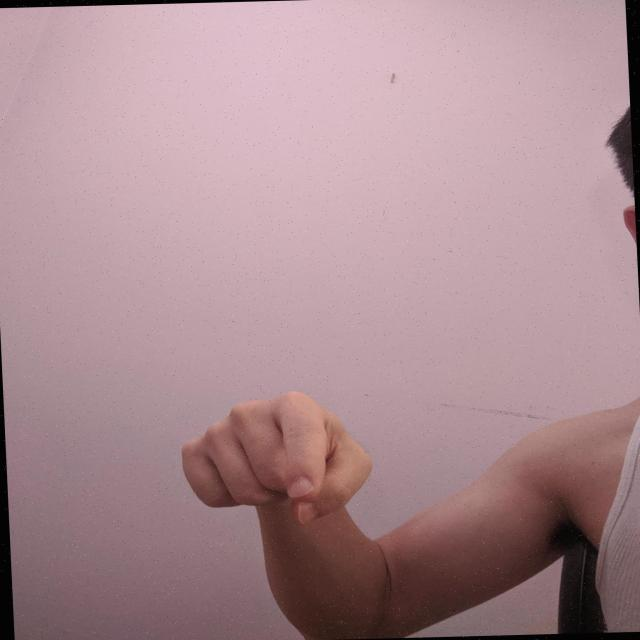Z: (172, 387, 382, 532)
